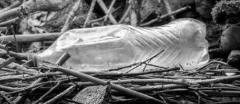plastic: (28, 17, 210, 75)
